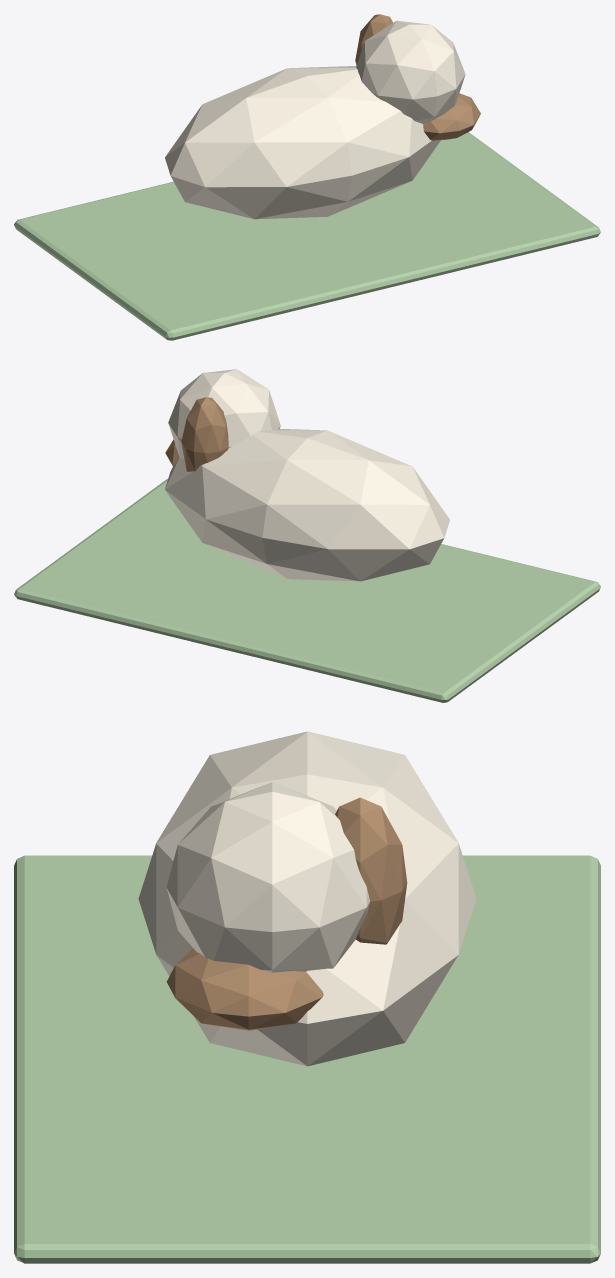
Rendered from cozy-home-interiors-dog-on-rug-ce4d42a9.glb.
3 views of the same model, one above another, from view 1: azimuth 30°, elevation 25°; view 2: azimuth 150°, elevation 25°; view 3: azimuth 270°, elevation 25° (orthographic). The views are drawn at different scales.
Visible parts, largest first — view 1: dog-on-rug; view 2: dog-on-rug; view 3: dog-on-rug.
Part boxes in pixels (x1,y1,x2,y2): dog-on-rug: (14, 14, 600, 340); dog-on-rug: (14, 369, 600, 702); dog-on-rug: (14, 731, 600, 1263).
Size of the model in its own units: 0.8 by 0.34 by 0.5.
